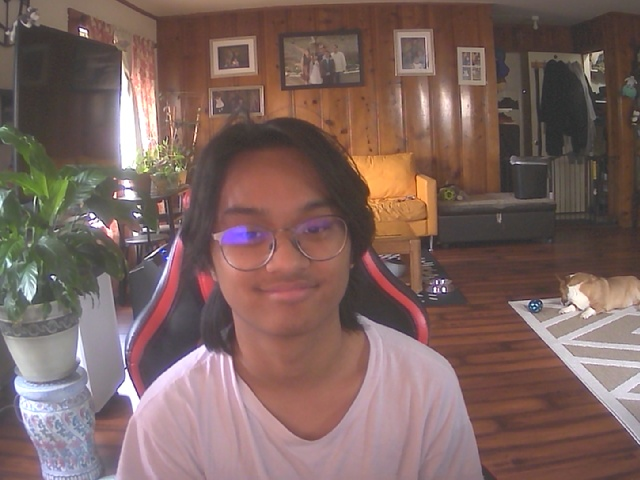happy: (209, 135, 361, 342)
